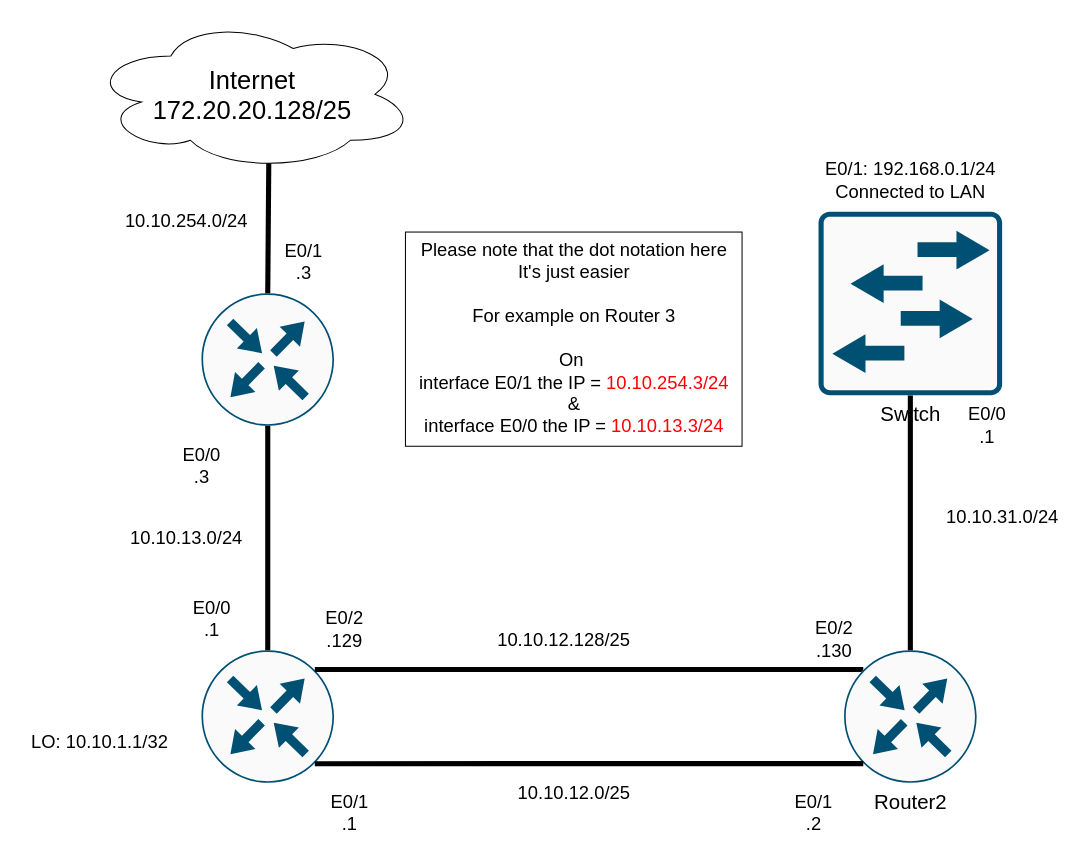
This 1085x862 diagram has some shape labels left out. Here are the shapes that lost their labels. From the top down, the box of each, then its label:
(200, 292, 334, 426): Router3
(200, 649, 334, 783): Router1
